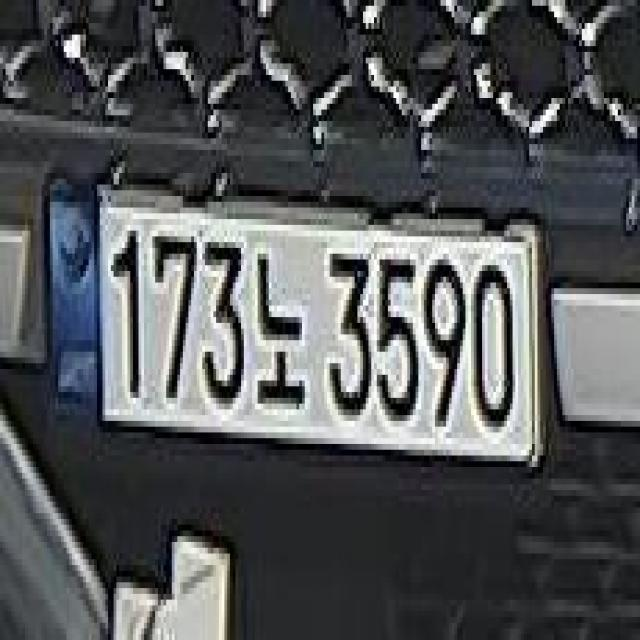illegal_plate: (41, 158, 556, 490)
